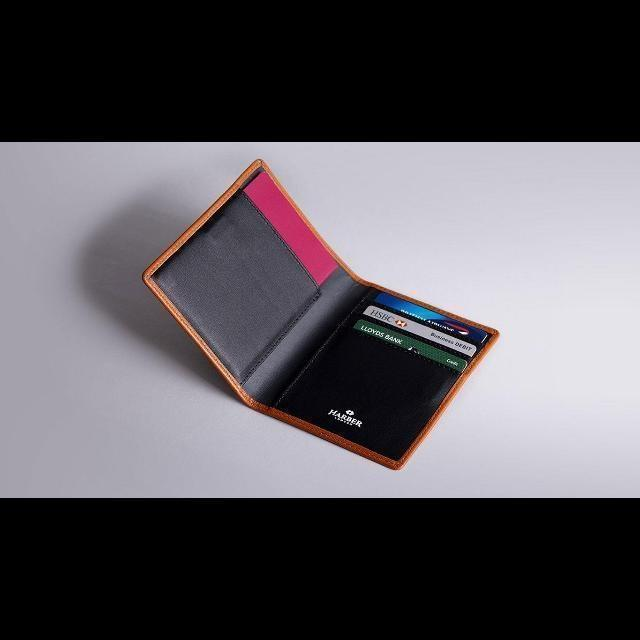Wallet: (139, 152, 506, 472)
